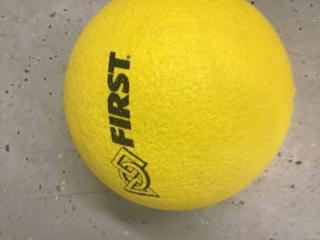power_cell: (72, 4, 295, 208)
